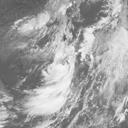cyclone: (27, 34, 83, 97)
